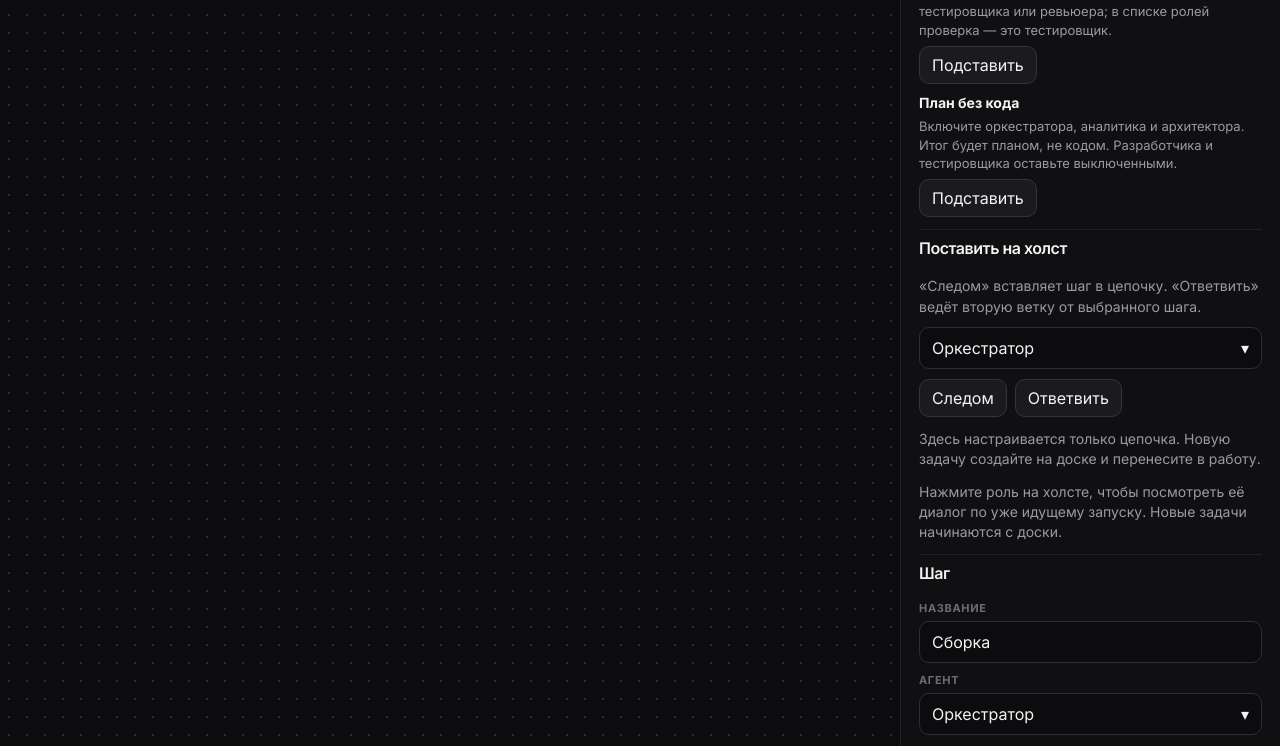
Test: Холст: роли, «Следом», «Ответвить» и уборка шага › без запуска «Ответвить» ведёт вторую ветку от выбранного
(page scrolled)
Step 1. Click the button with test id "place-branch" → click(1068, 398), box [1015, 379, 1122, 417]
(page scrolled)
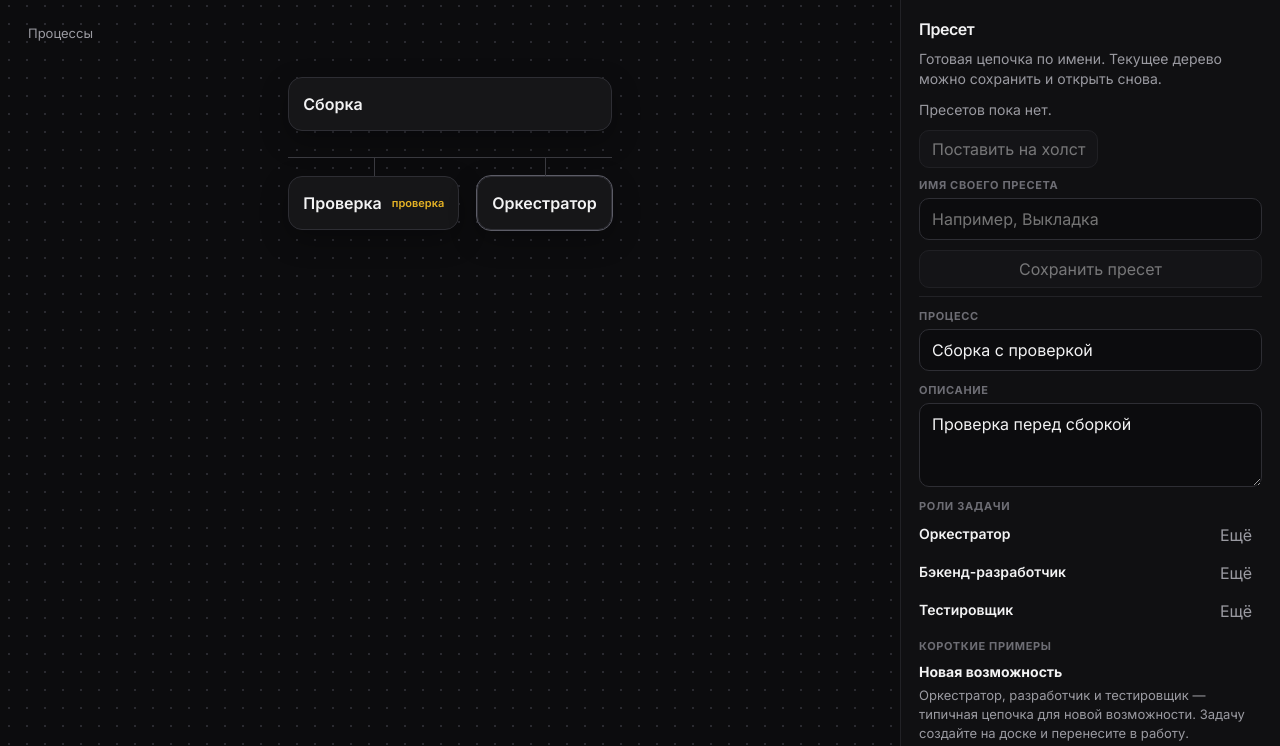
Expected: the element with class "many" is shown, [288, 157, 612, 230]
